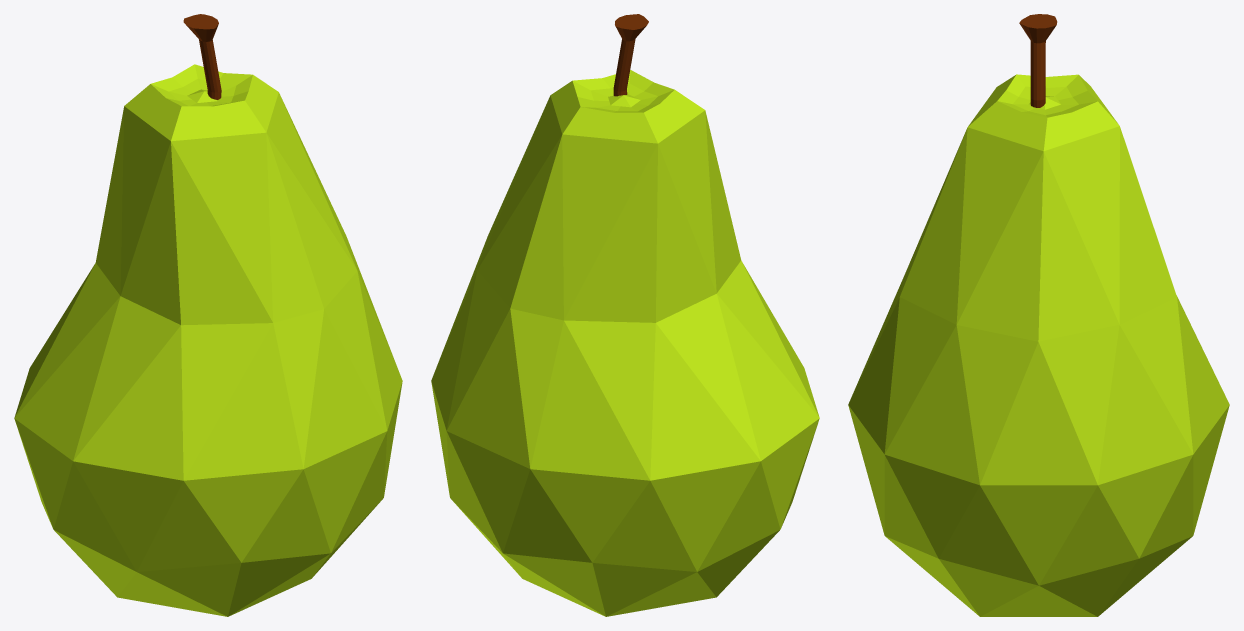
The model's file is pear.fbx.
3 views of the same model, side by side, from view 1: azimuth 30°, elevation 25°; view 2: azimuth 150°, elevation 25°; view 3: azimuth 270°, elevation 25° (orthographic).
Visible parts, largest first — view 1: Icosphere, Cylinder; view 2: Icosphere, Cylinder; view 3: Icosphere, Cylinder.
Part boxes in pixels (x1,y1,x2,y2): Icosphere: [14, 64, 402, 616]; Cylinder: [183, 14, 221, 99]; Icosphere: [431, 70, 819, 616]; Cylinder: [613, 14, 648, 96]; Icosphere: [848, 74, 1229, 616]; Cylinder: [1019, 14, 1057, 107].
Bounding box in the file's own units: 10 × 16.98 × 10.
